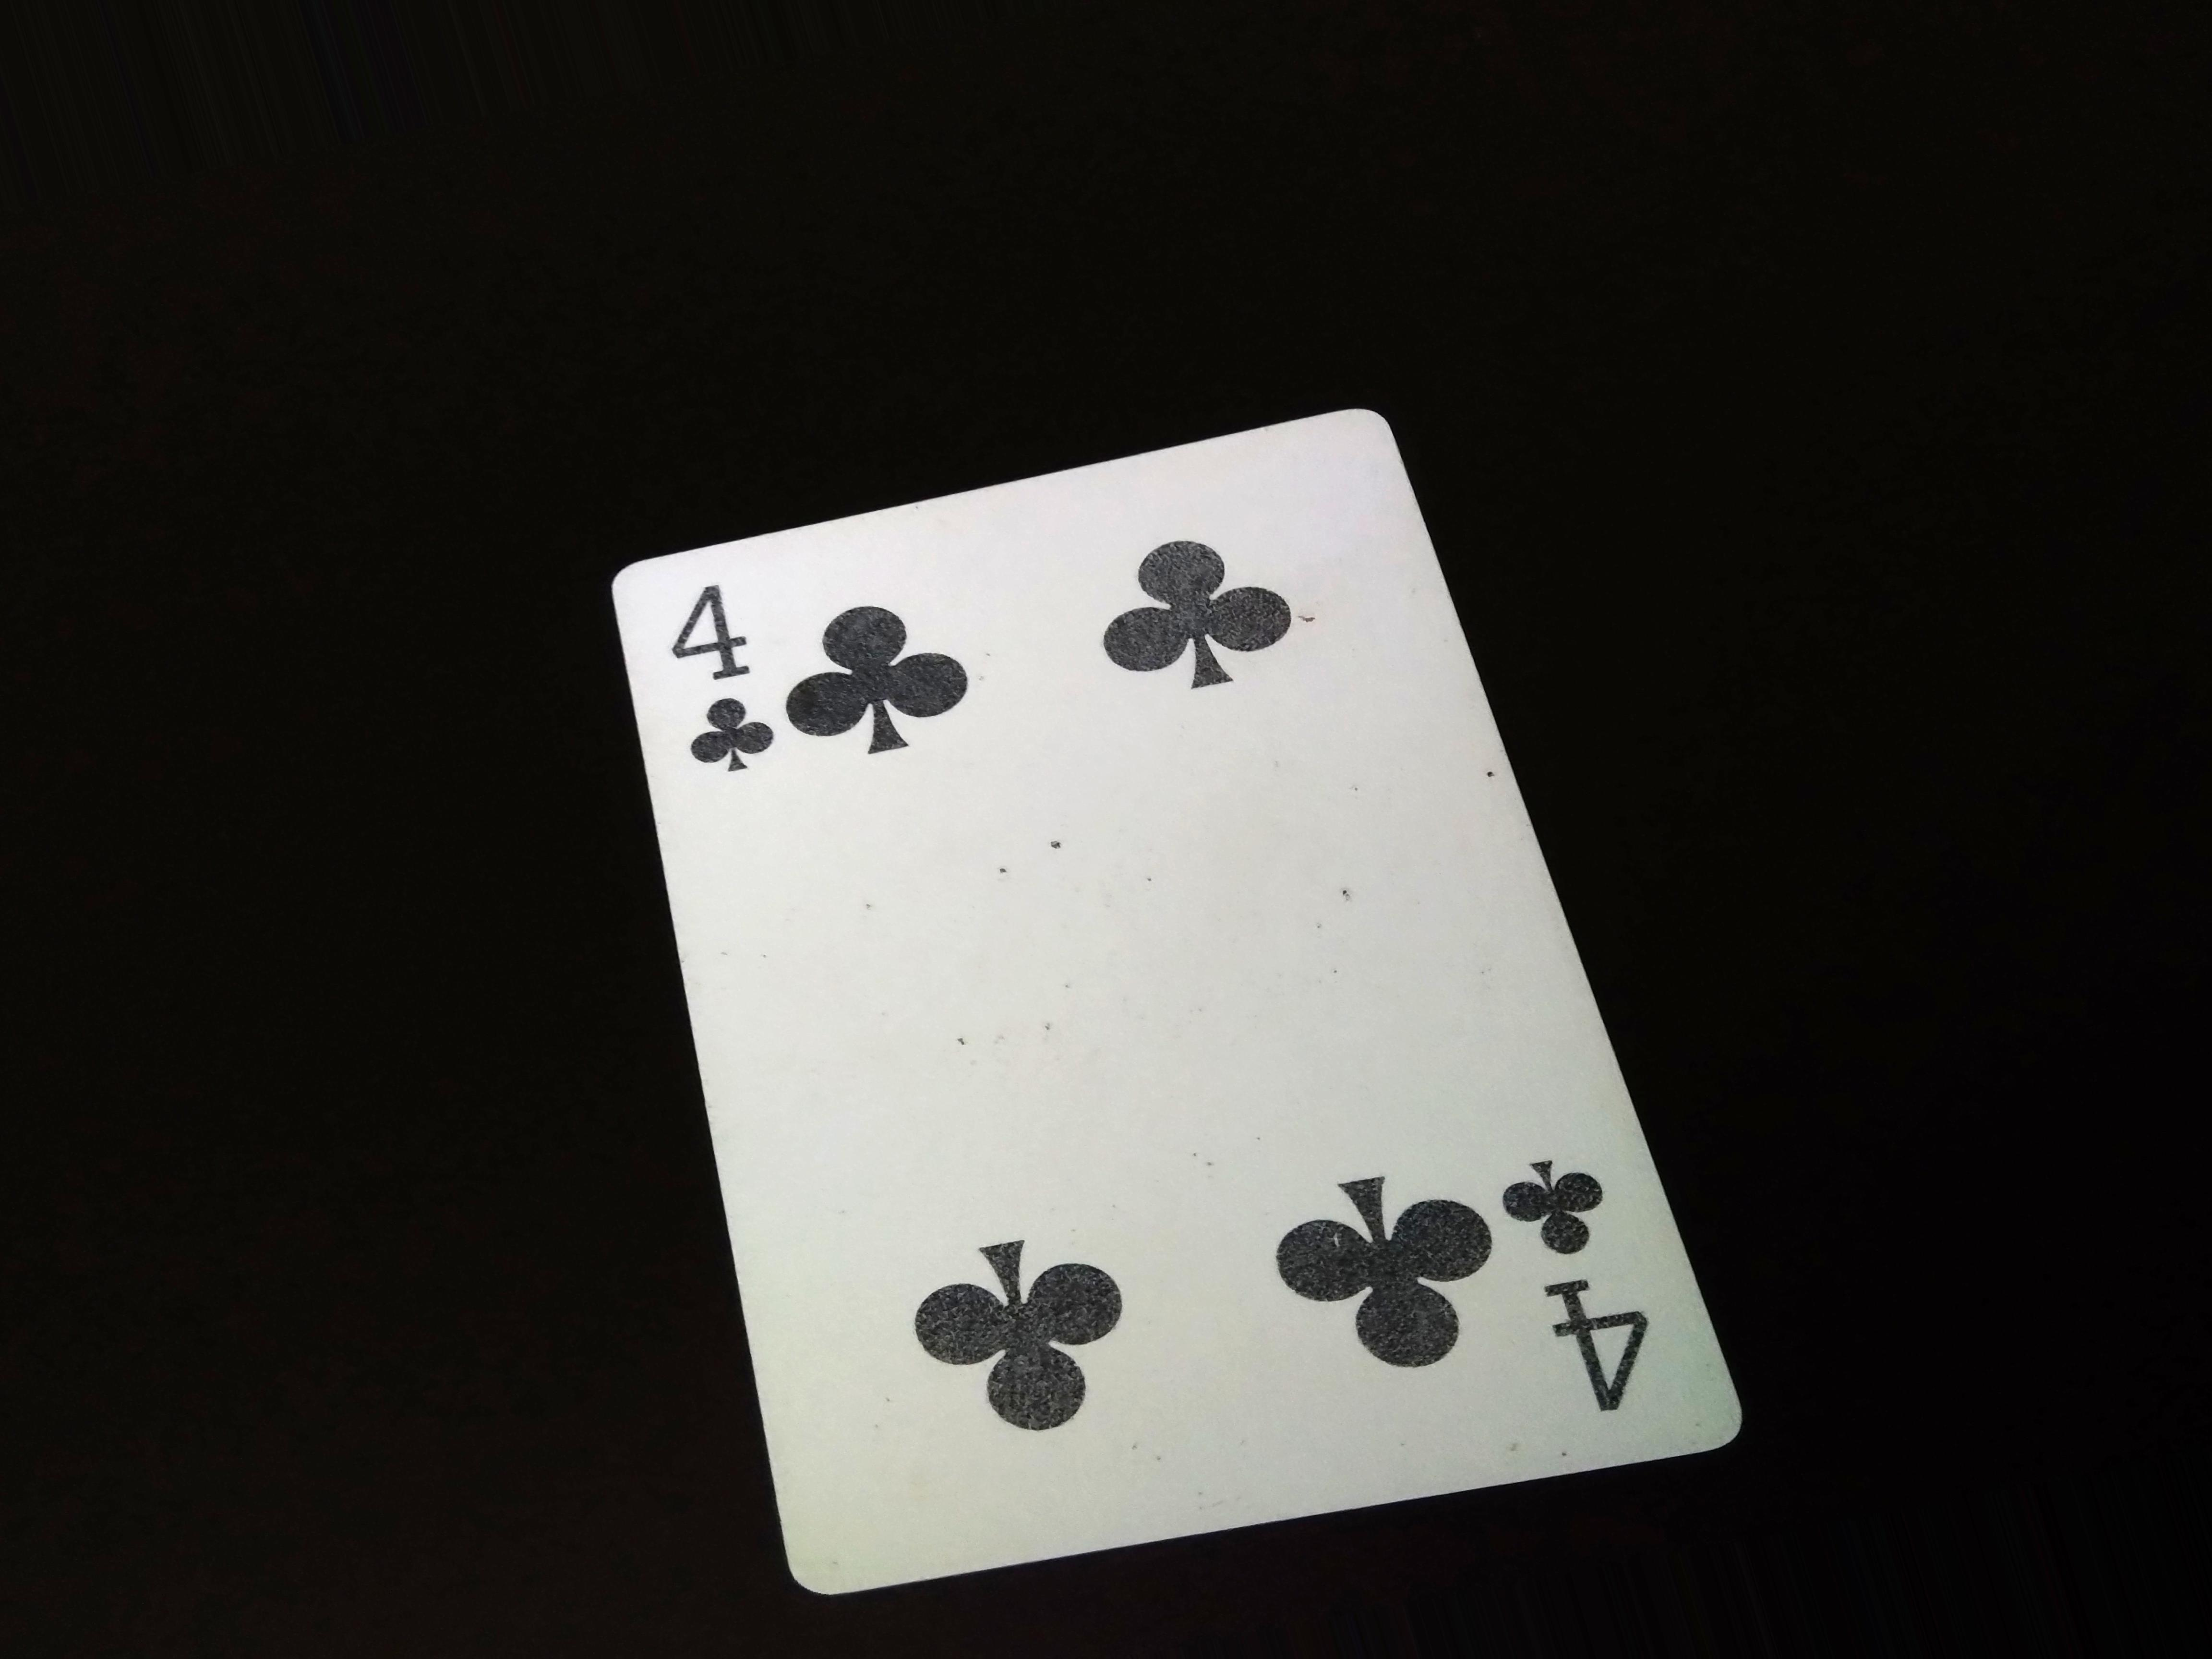4C: (657, 575, 794, 810)
